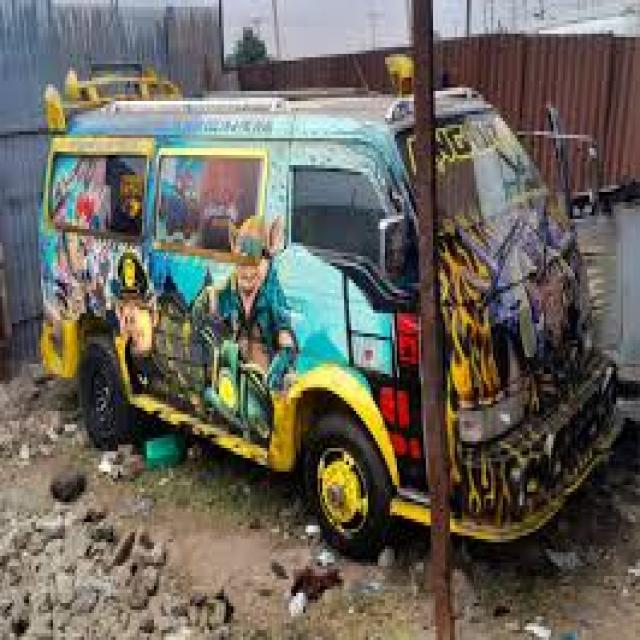matatu: (30, 0, 638, 598)
